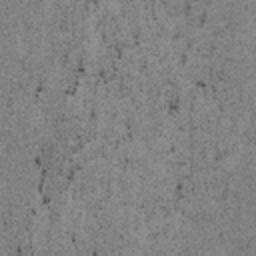Oxide scale of temperature system: (60, 136, 90, 184), (96, 43, 121, 85), (34, 149, 51, 209), (65, 60, 85, 95), (197, 72, 223, 92), (176, 184, 194, 201), (168, 96, 179, 114), (17, 245, 33, 256), (35, 82, 42, 102)
